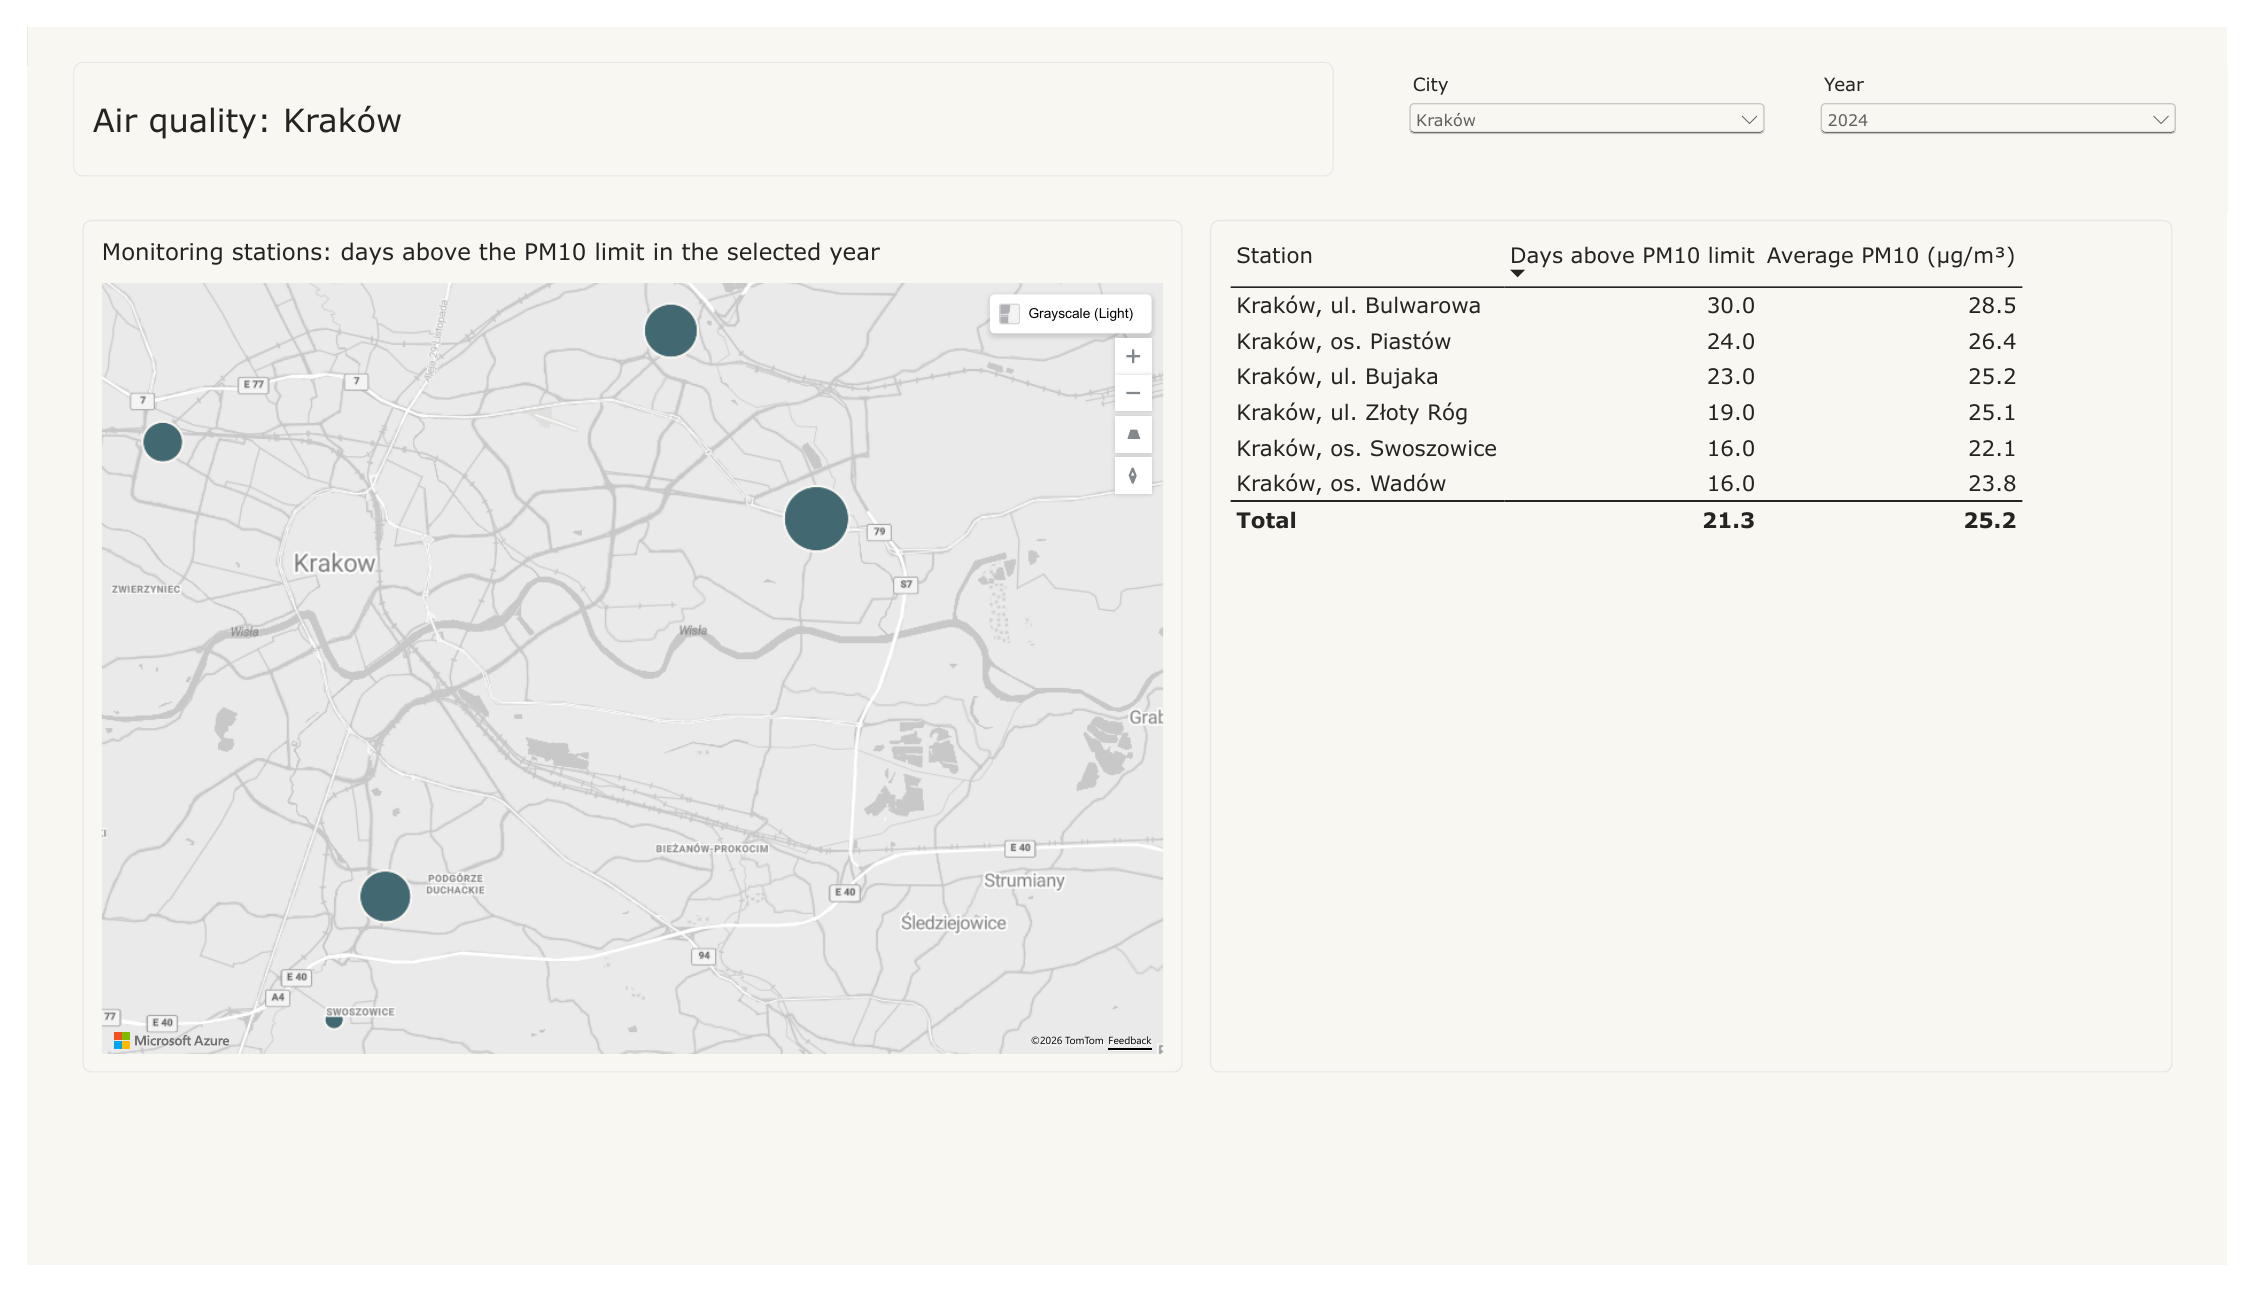

Layout of this report page (visuals, bound fields, positions):
{"tool":"powerbi","page":{"name":"Station map","canvas":[1920,1080],"ordinal":3},"visuals":[{"type":"slicer","fields":{"Values":["Stacje.Miejscowosc"]},"box":[1201,40,320,80],"z":0},{"type":"slicer","fields":{"Values":["Kalendarz.Rok"]},"box":[1560,40,320,80],"z":1000},{"type":"cardVisual","fields":{"Data":["Pomiary.Tytul strony"]},"box":[40,30,1100,100],"z":2000},{"type":"azureMap","title":"Monitoring stations: days above the PM10 limit in the selected year","fields":{"Size":["Pomiary.Dni ponad normą PM10"],"X":["Stacje.Dlugosc"],"Y":["Stacje.Szerokosc"]},"box":[48,168,960,744],"z":3000},{"type":"tableEx","fields":{"Values":["Stacje.Nazwa stacji","Pomiary.Dni ponad normą PM10","Pomiary.Średnie PM10 (µg/m³)"]},"box":[1032,168,840,744],"z":4000}]}

Visuals, with their boxes in screenshot pixels (x1, y1, x2, y2), scaled from the page's 1920x1080 canvas onto the 2255x1293 screenshot:
slicer - Stacje.Miejscowosc: <box>1411,48,1786,144</box>
slicer - Kalendarz.Rok: <box>1832,48,2208,144</box>
cardVisual - Pomiary.Tytul strony: <box>47,36,1339,156</box>
"Monitoring stations: days above the PM10 limit in the selected year" azureMap: <box>56,201,1184,1092</box>
tableEx - Stacje.Nazwa stacji x Pomiary.Dni ponad normą PM10: <box>1212,201,2199,1092</box>
